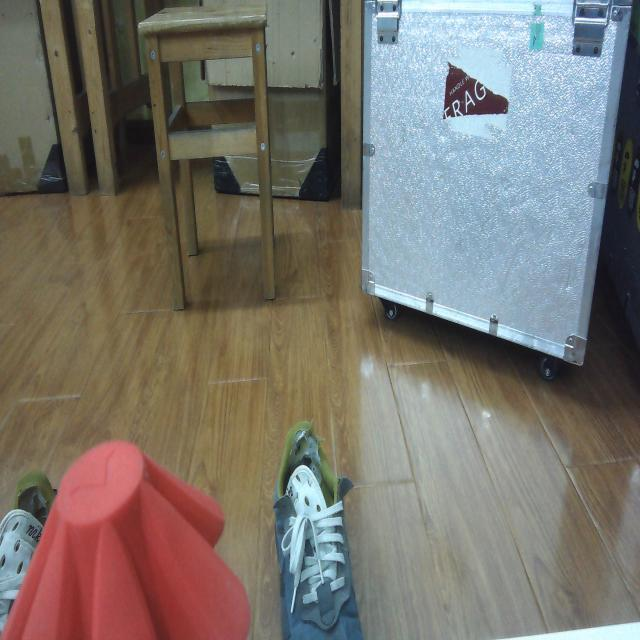zred-Stake-Head: (0, 439, 251, 640)
